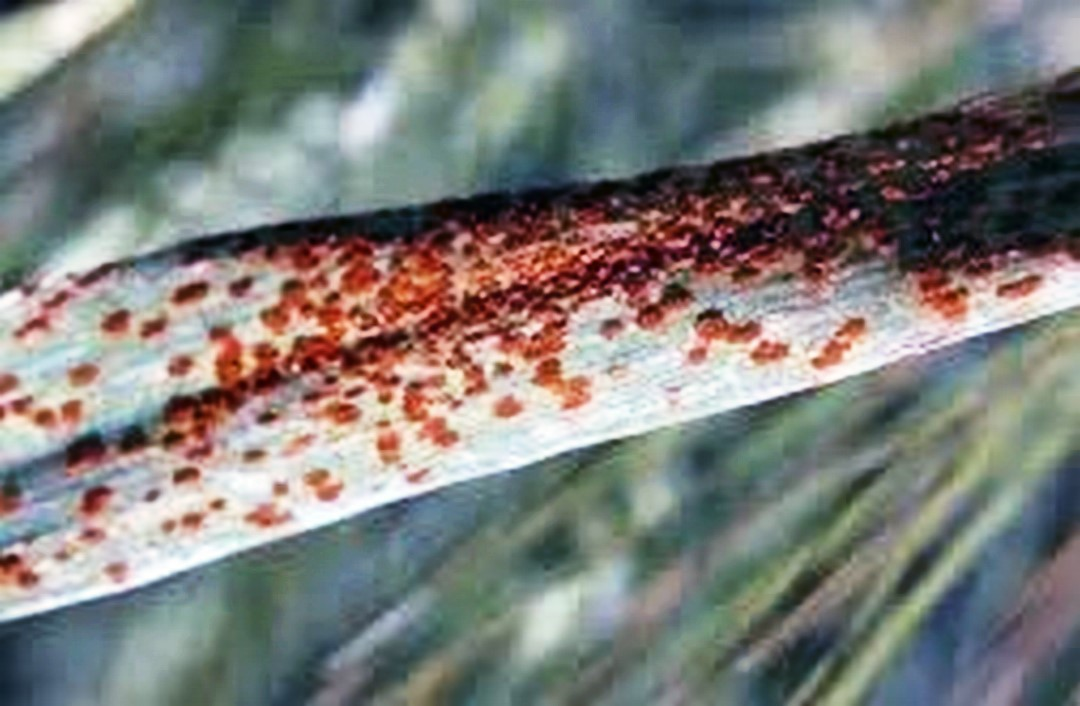Leaf Rust: (181, 119, 925, 537)
